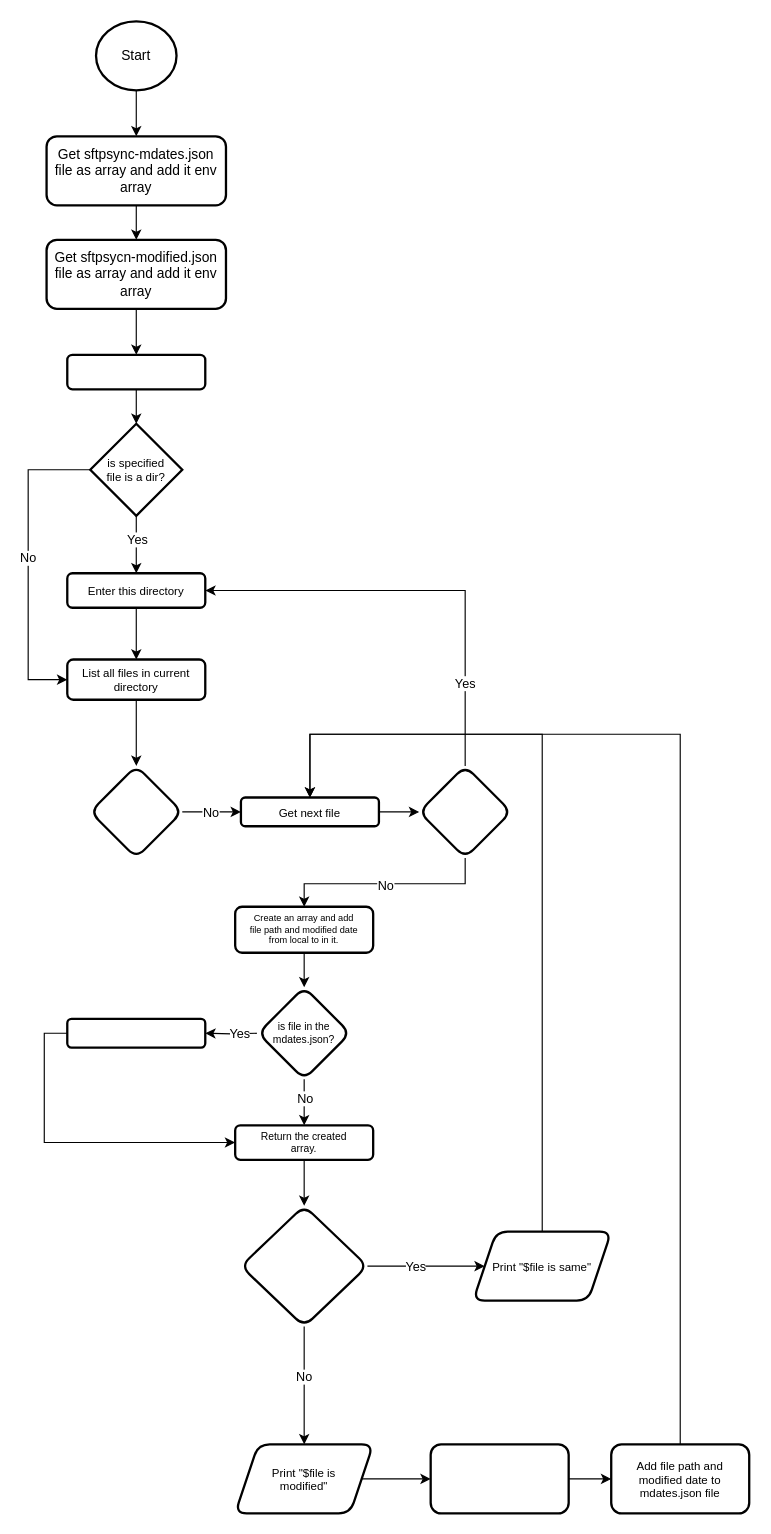
The diagram is 771 pixels wide and 1534 high, and some of its shapes have lost their labels. Each missing label, with the centre of its shape:
Add file path and modified date to modified.json file: pixel 499 1478
Add modified date to created array.: pixel 136 1032
Check local modified date and got from file are equal?: pixel 303 1265
end of the loop?: pixel 136 811
Go to start directory: pixel 136 371
is the file a directory?: pixel 464 811
